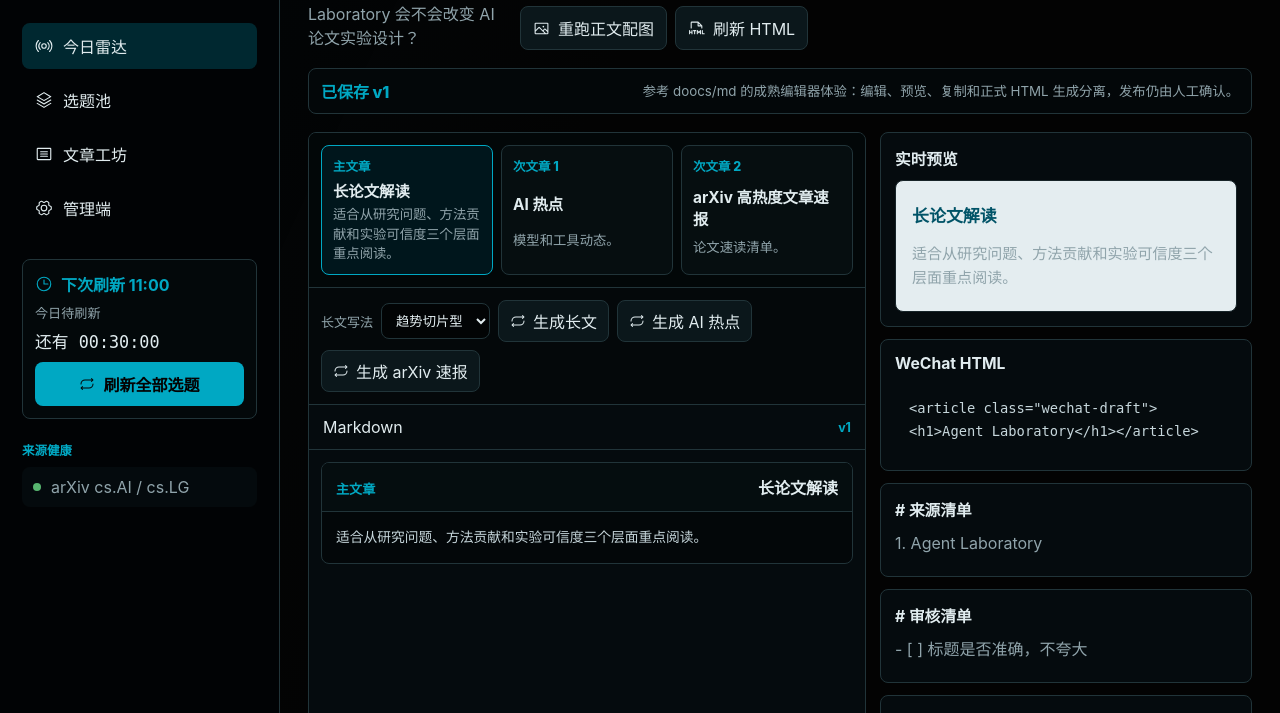
Test case: refreshes an individual article module and reloads draft detail
This screenshot has width=1280, height=713.
(page scrolled)
Click the button "生成 AI 热点". click: (685, 321)
box: x1=617 y1=300 x2=752 y2=342
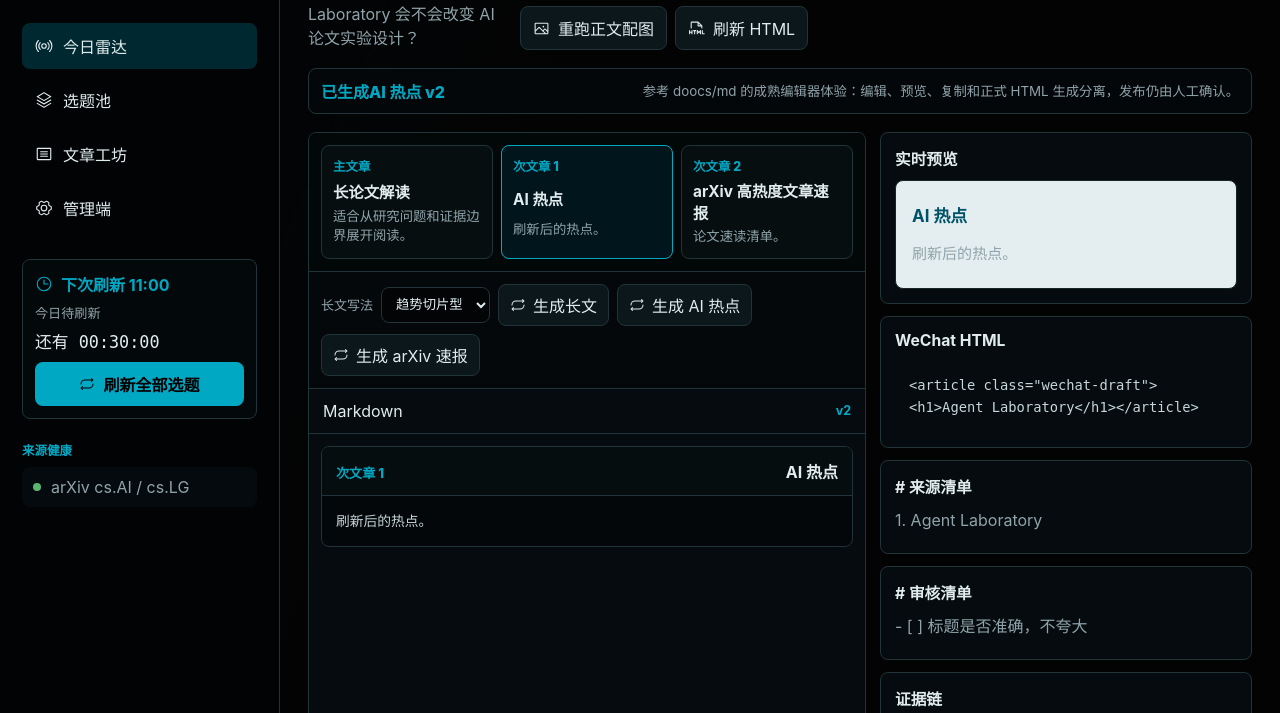
Now the 3rd text "刷新后的热点。" is shown, box x1=336 y1=512 x2=432 y2=528
